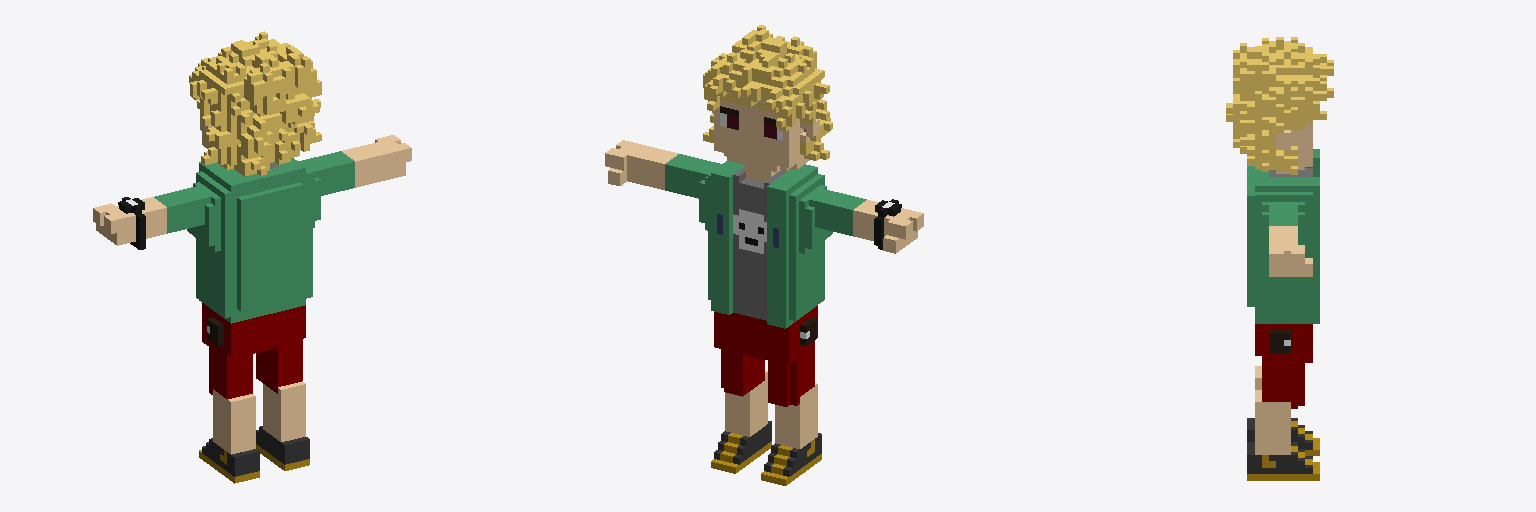
3 renders of one model, left to right at view 1: azimuth 30°, elevation 25°; view 2: azimuth 150°, elevation 25°; view 3: azimuth 270°, elevation 25°, orthographic.
Visible parts, largest first — view 1: object 1; view 2: object 1; view 3: object 1.
Part boxes in pixels (x1,y1,x2,y2): object 1: (93, 31, 411, 483); object 1: (605, 25, 923, 485); object 1: (1226, 37, 1333, 480).
Size of the model in its own units: 4.8 by 6.3 by 1.5.
1 materials, 1 textured.